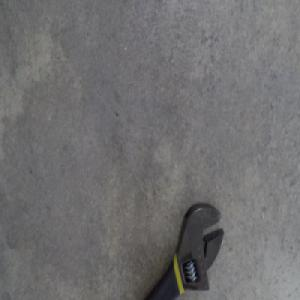AdjustableWrench: (142, 200, 225, 299)
